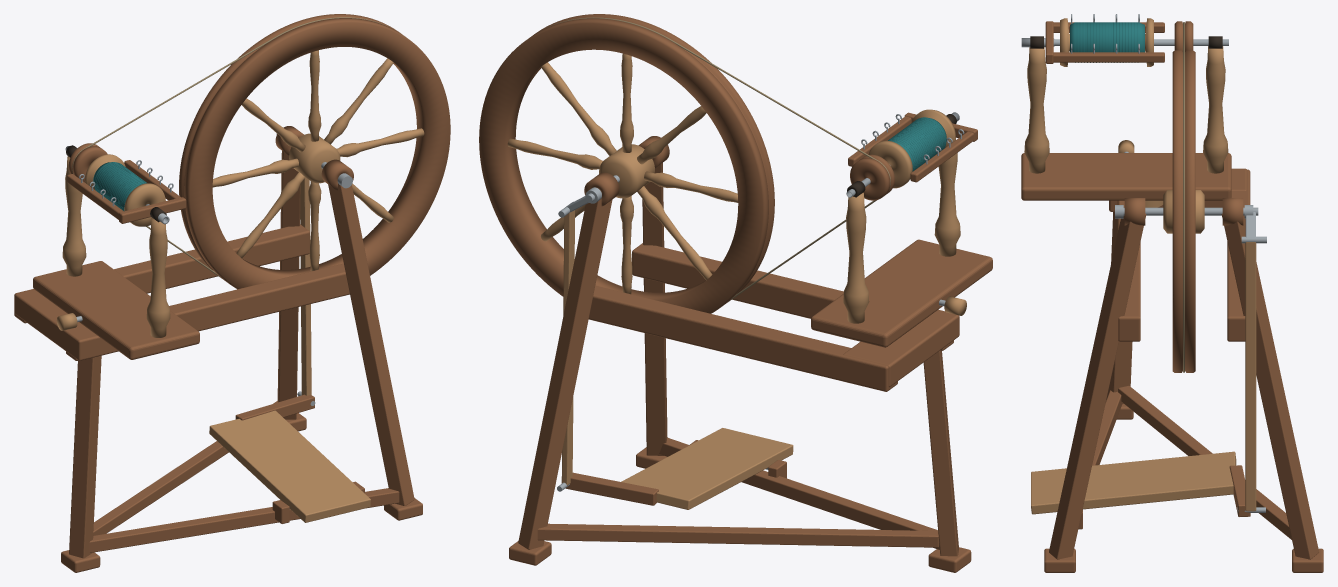
3 views of the same model, side by side, from view 1: azimuth 30°, elevation 25°; view 2: azimuth 150°, elevation 25°; view 3: azimuth 270°, elevation 25° (orthographic). The views are drawn at different scales.
Visible parts, largest first — view 1: Large grooved drive wheel rim, Single rounded treadle footboard, Flyer mother-of-all platform, Splayed stand leg 1, Open table longitudinal rail -1, Splayed stand leg 0, Open table longitudinal rail 1, Front floor treadle crossbar, Splayed stand leg 2, Left table cross member, Rear diagonal lower stretcher, Turned flyer maiden -0.255 (+20 smaller); view 2: Large grooved drive wheel rim, Open table longitudinal rail 1, Flyer mother-of-all platform, Splayed stand leg 2, Single rounded treadle footboard, Rear diagonal lower stretcher, Open table longitudinal rail -1, Splayed stand leg 0, Splayed stand leg 1, Front floor treadle crossbar, Left table cross member, Turned flyer maiden 0.055 (+20 smaller); view 3: Splayed stand leg 1, Flyer mother-of-all platform, Single rounded treadle footboard, Splayed stand leg 2, Large grooved drive wheel rim, Treadle wooden connecting rod, Rear diagonal lower stretcher, Turned flyer maiden 0.055, Turned flyer maiden -0.255, Teal yarn winding, Open table longitudinal rail 1, Open table longitudinal rail -1 (+15 smaller).
Part boxes in pixels (box(x1,y1,x2,y2)): Large grooved drive wheel rim: box(179, 14, 450, 289); Single rounded treadle footboard: box(209, 410, 370, 522); Flyer mother-of-all platform: box(33, 261, 199, 359); Splayed stand leg 1: box(328, 183, 414, 505); Open table longitudinal rail -1: box(66, 263, 349, 360); Splayed stand leg 0: box(69, 355, 101, 558); Open table longitudinal rail 1: box(14, 224, 309, 323); Front floor treadle crossbar: box(89, 488, 399, 552); Splayed stand leg 2: box(277, 151, 300, 419); Left table cross member: box(14, 289, 118, 360); Rear diagonal lower stretcher: box(93, 400, 277, 535); Turned flyer maiden -0.255: box(146, 218, 170, 337); Large grooved drive wheel rim: box(479, 14, 774, 313); Open table longitudinal rail 1: box(588, 285, 897, 391); Flyer mother-of-all platform: box(811, 239, 992, 347); Splayed stand leg 2: box(518, 198, 612, 549); Single rounded treadle footboard: box(621, 428, 793, 509); Rear diagonal lower stretcher: box(537, 523, 939, 547); Open table longitudinal rail -1: box(632, 243, 953, 350); Splayed stand leg 0: box(923, 350, 958, 556); Splayed stand leg 1: box(642, 163, 667, 455); Front floor treadle crossbar: box(659, 437, 939, 549); Left table cross member: box(843, 309, 959, 387); Turned flyer maiden 0.055: box(843, 192, 869, 323); Splayed stand leg 1: box(1049, 206, 1146, 559); Flyer mother-of-all platform: box(1021, 153, 1231, 200); Single rounded treadle footboard: box(1031, 451, 1236, 514); Splayed stand leg 2: box(1221, 206, 1318, 559); Large grooved drive wheel rim: box(1172, 50, 1195, 372); Treadle wooden connecting rod: box(1245, 242, 1256, 511); Rear diagonal lower stretcher: box(1118, 385, 1291, 539); Turned flyer maiden 0.055: box(1203, 46, 1228, 173); Turned flyer maiden -0.255: box(1024, 47, 1049, 173); Teal yarn winding: box(1070, 22, 1144, 52); Open table longitudinal rail 1: box(1227, 169, 1250, 341); Open table longitudinal rail -1: box(1117, 200, 1140, 341).
Bounding box in the file's own units: 87.9 × 93 × 52.5.
